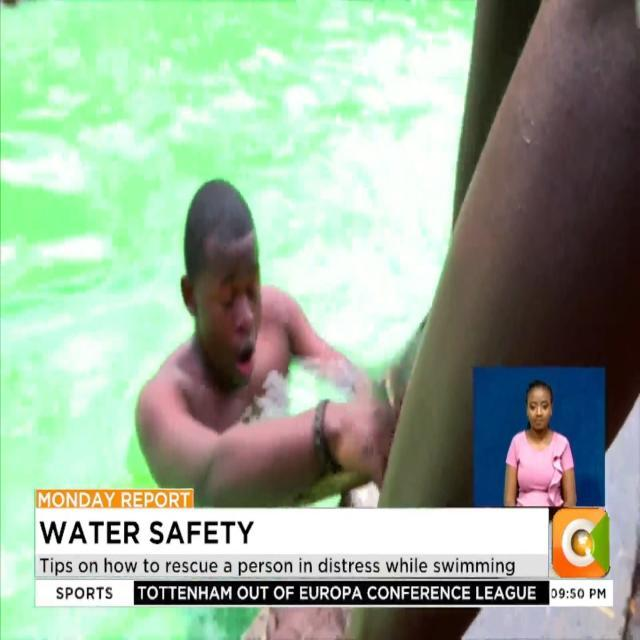swimming: (107, 190, 378, 490)
